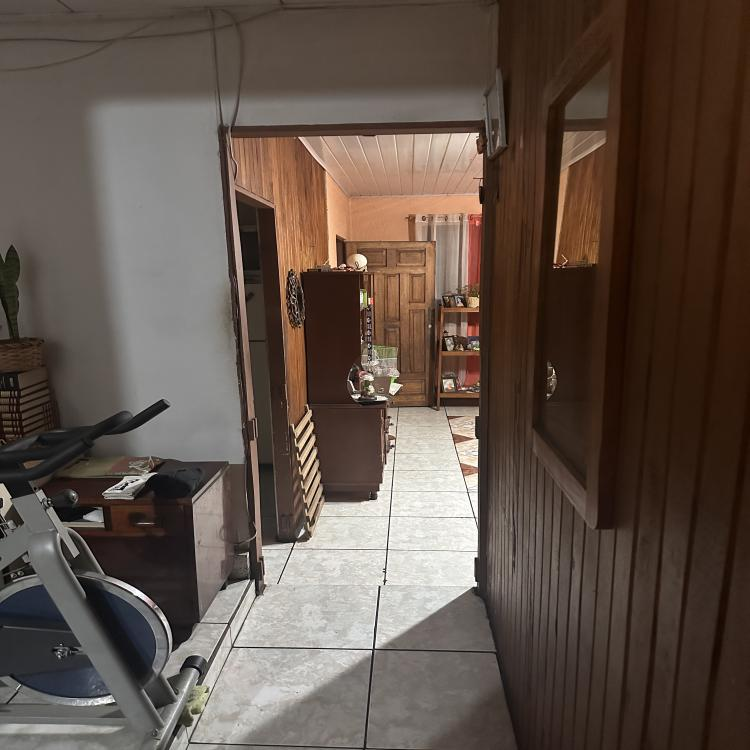OpenDoor: (211, 119, 511, 593), (234, 184, 298, 558)
